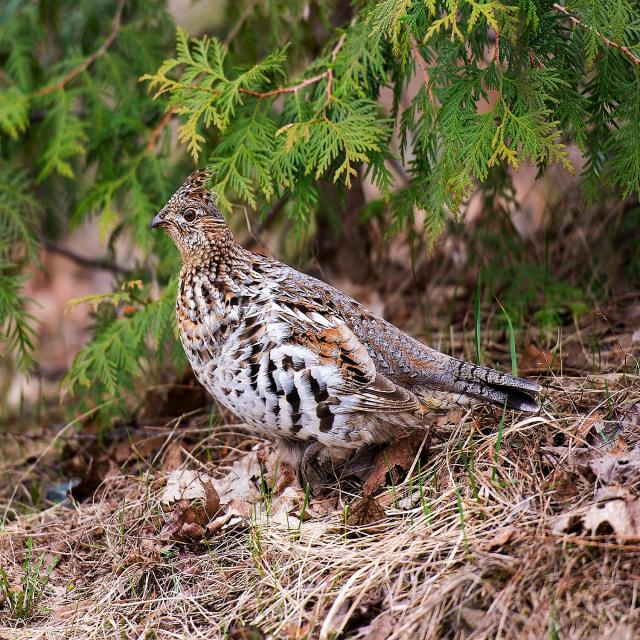bird: (146, 161, 543, 486)
